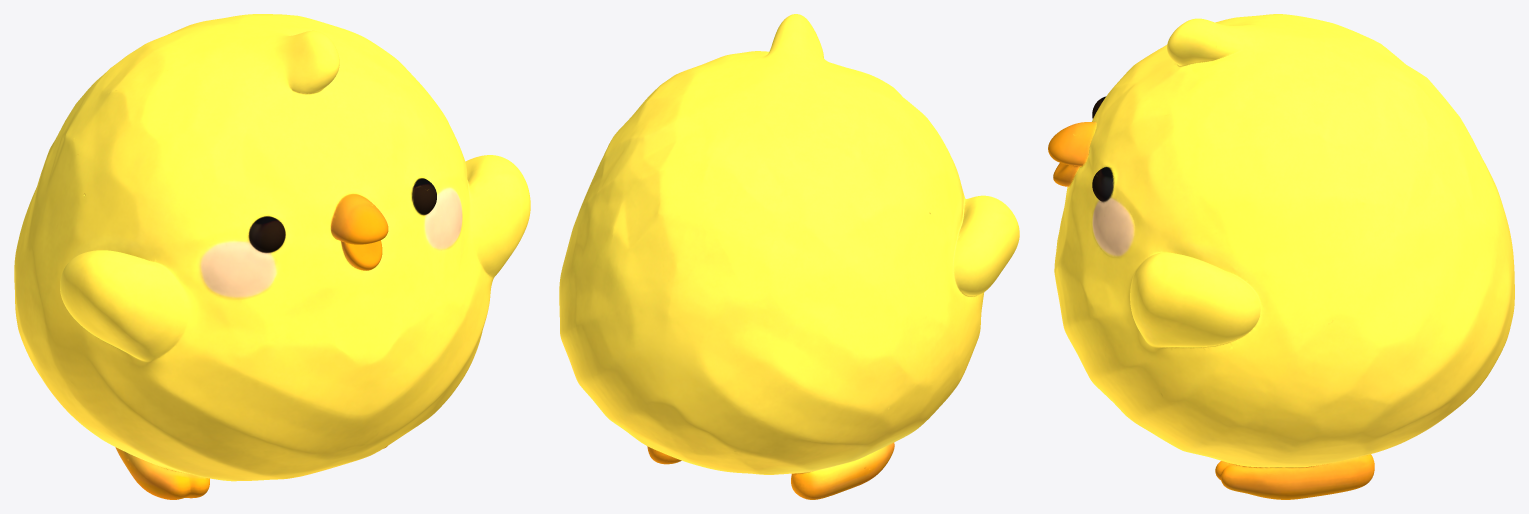
The model's file is Meshy_AI_Sunny_Chick_0601172141_texture.fbx.
3 renders of one model, left to right at view 1: azimuth 30°, elevation 25°; view 2: azimuth 150°, elevation 25°; view 3: azimuth 270°, elevation 25°, orthographic. The views are drawn at different scales.
Visible parts, largest first — view 1: Mesh_0; view 2: Mesh_0; view 3: Mesh_0.
Part boxes in pixels (x1,y1,x2,y2): Mesh_0: [14, 14, 530, 499]; Mesh_0: [559, 14, 1019, 499]; Mesh_0: [1048, 14, 1514, 499].
Bounding box in the file's own units: 190 × 190 × 181.
Materials: 1 (1 with a texture image).
